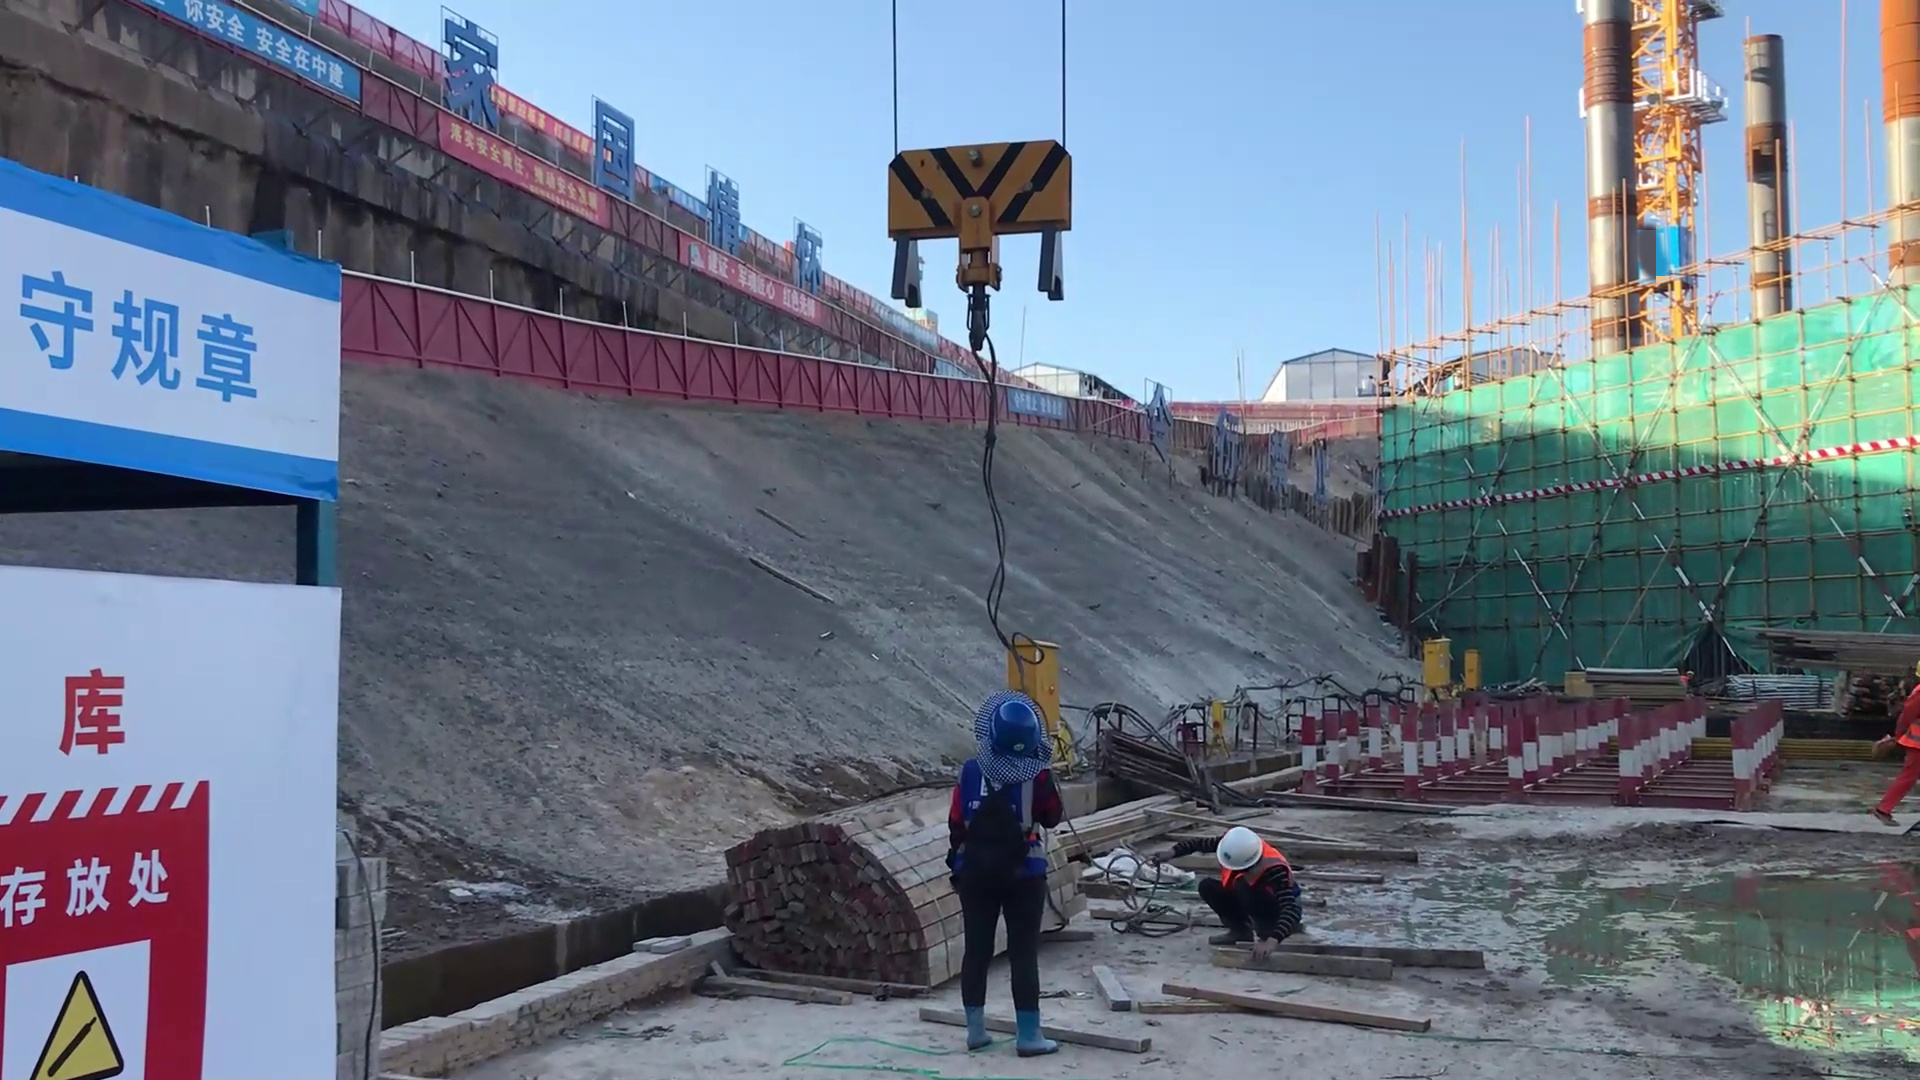ebox: (1011, 638, 1063, 733), (1411, 631, 1454, 687), (1448, 650, 1486, 701)
fence: (334, 286, 778, 405), (770, 357, 1158, 439)
helmet: (988, 700, 1044, 753), (1209, 822, 1263, 875)
hook: (882, 124, 1077, 300)
person: (931, 687, 1070, 1059), (1135, 819, 1304, 949)
slogan: (1, 243, 299, 448), (432, 105, 664, 293), (1, 857, 208, 1065), (155, 15, 362, 131)
wood: (718, 802, 929, 993), (1743, 619, 1920, 689)
